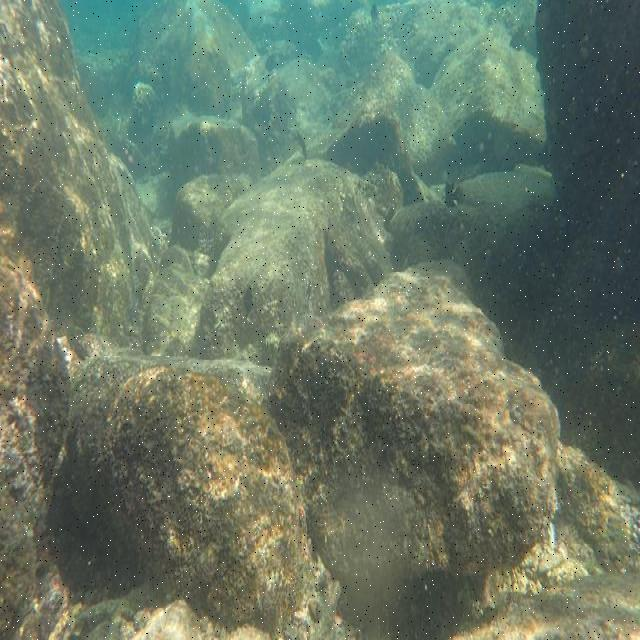sea-floor: (267, 264, 562, 584), (45, 358, 313, 631), (141, 158, 403, 362)
